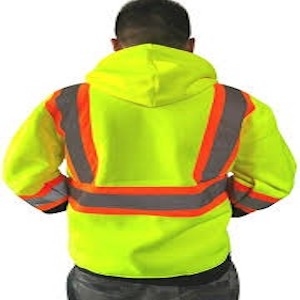vest: (5, 46, 298, 279)
